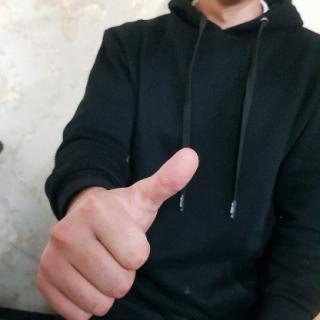ALIF: (35, 143, 202, 320)
